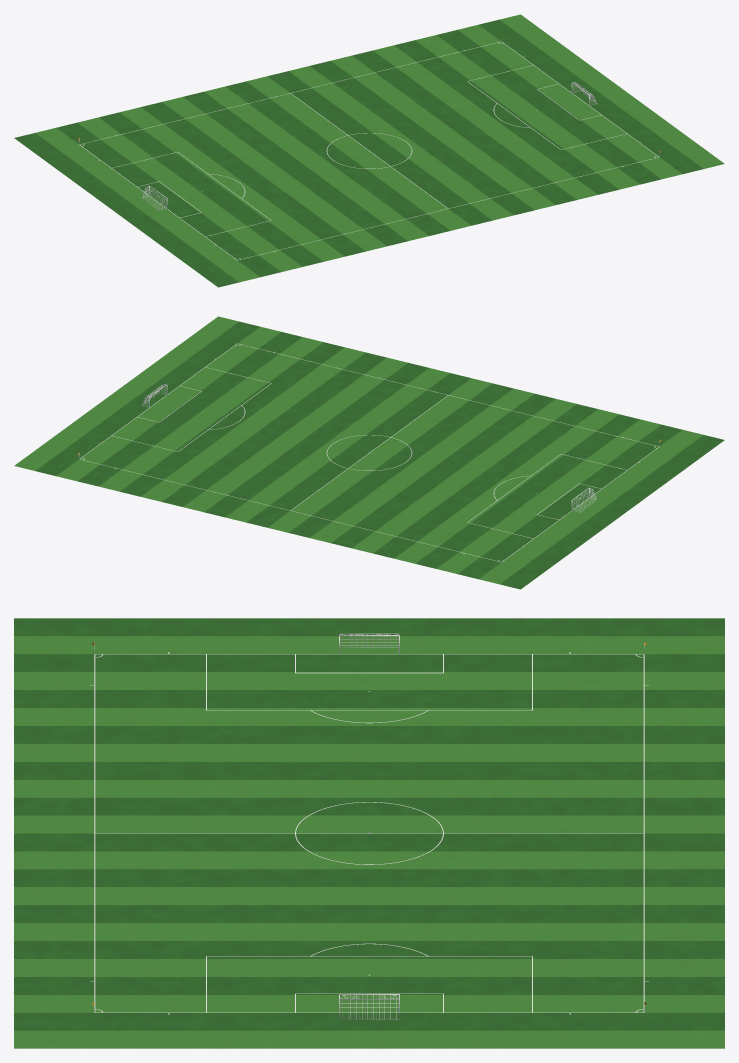
The model's file is campo.glb.
The picture shows the model from 3 angles, top to bottom: view 1: azimuth 30°, elevation 25°; view 2: azimuth 150°, elevation 25°; view 3: azimuth 270°, elevation 25°; orthographic projection. The views are drawn at different scales.
Parts seen in each view (by area): view 1: Cesped, Lineas; view 2: Cesped, Lineas; view 3: Cesped, Lineas, Porteria derecha - red.
Boxes of the visible parts, box(x1,y1,x2,y2) form: Cesped: box(14, 14, 724, 287); Lineas: box(79, 41, 658, 260); Cesped: box(14, 316, 724, 589); Lineas: box(80, 343, 659, 562); Cesped: box(14, 618, 724, 1048); Lineas: box(90, 652, 648, 1014); Porteria derecha - red: box(340, 995, 398, 1018).
Size of the model in its own units: 126 by 2.56 by 88.
Materials: 9 (1 with a texture image).
